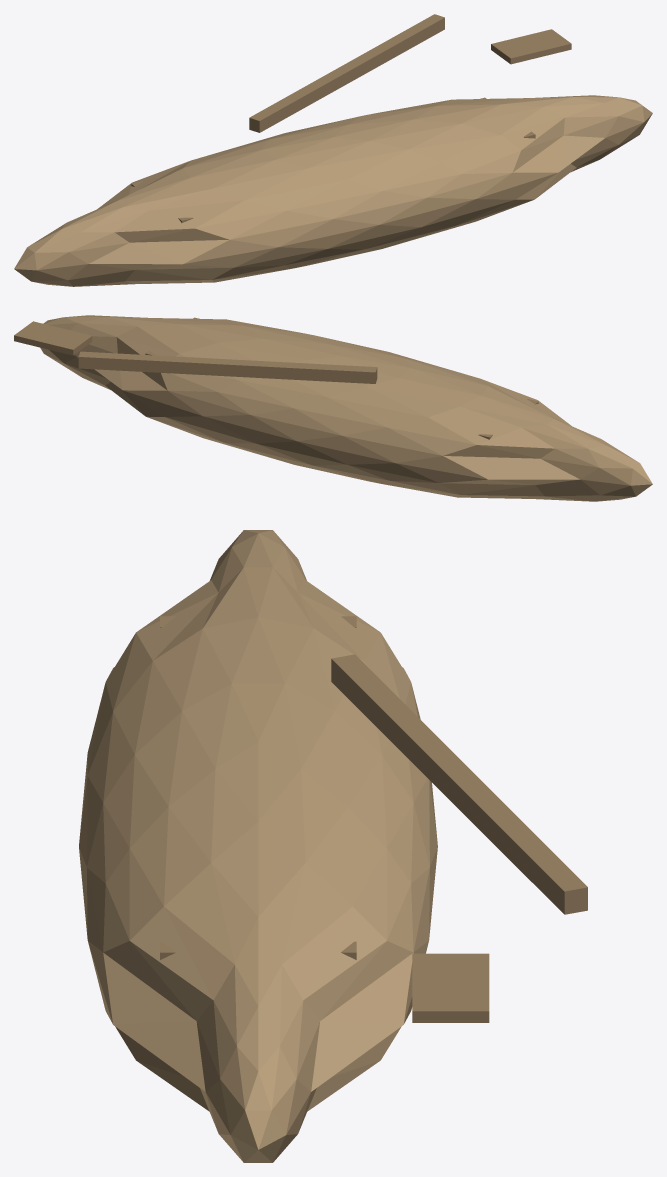
File: boat.glb
3 renders of one model, top to bottom at view 1: azimuth 30°, elevation 25°; view 2: azimuth 150°, elevation 25°; view 3: azimuth 270°, elevation 25°, orthographic. The views are drawn at different scales.
Parts seen in each view (by area): view 1: Boat; view 2: Boat; view 3: Boat.
Part boxes in pixels (<box>): Boat: <box>14,14,652,286</box>; Boat: <box>14,315,652,501</box>; Boat: <box>79,530,587,1162</box>.
Bounding box in the file's own units: 3.36 × 0.62 × 1.19.
